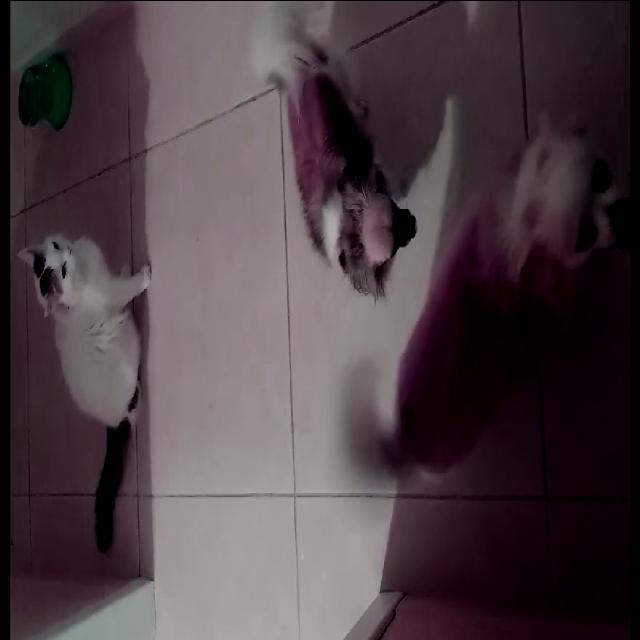Pedrita: (254, 2, 432, 320)
Simba: (13, 159, 166, 482)
Theo: (321, 61, 639, 552)
